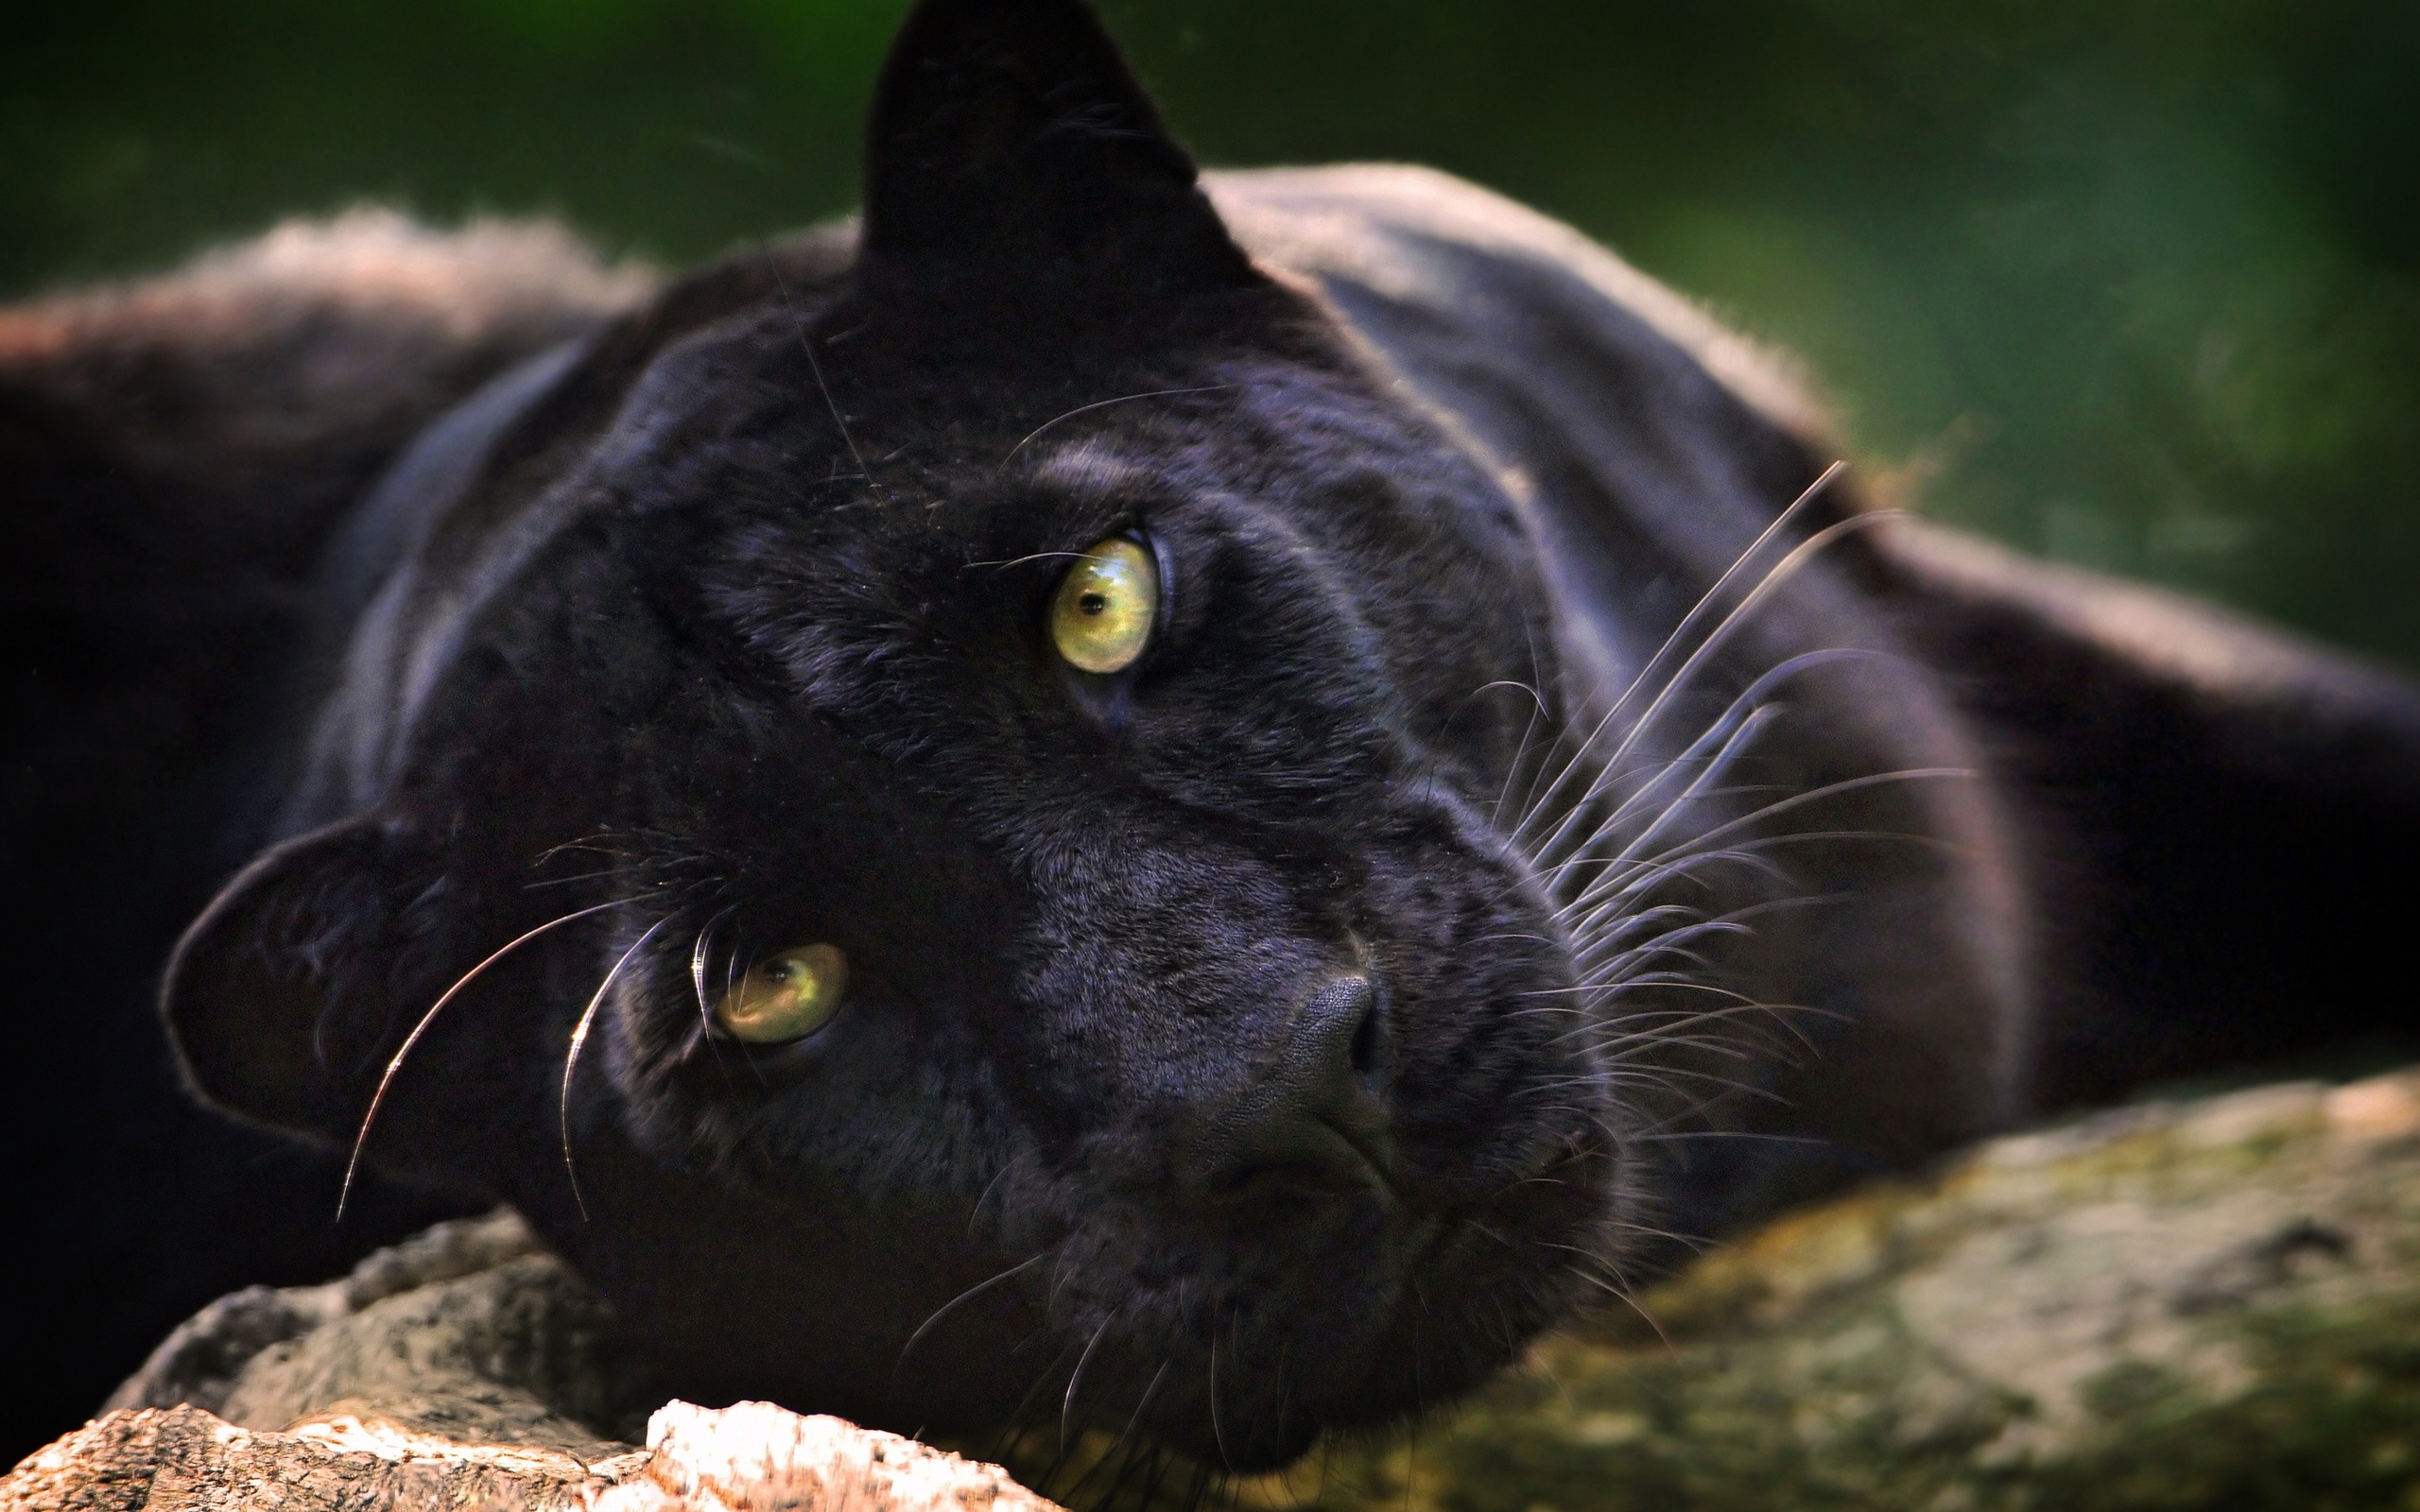panther: (103, 12, 1737, 1479)
